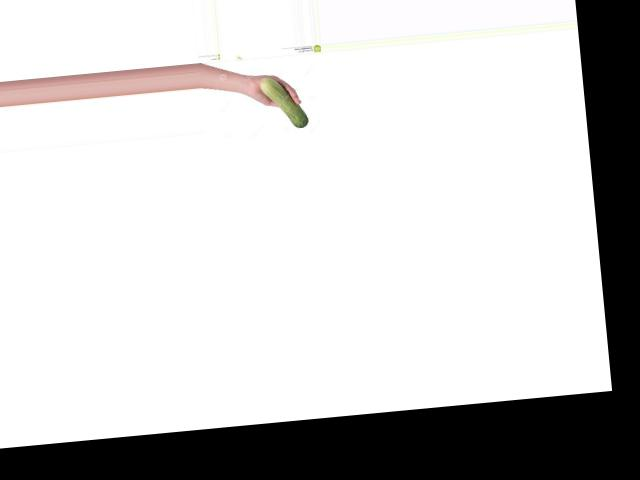cucumber: (259, 74, 307, 130)
